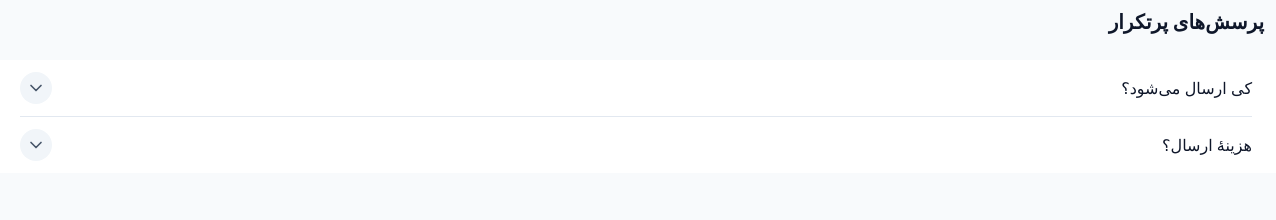
style_1 › faq: every question, its answer shown or a press away
Expected: the heading "پرسش‌های پرتکرار" is shown, [1109, 4, 1275, 40]
What coordinates should you click on to do the following:
click the button "کی ارسال می‌شود؟"
I would click on:
 (1187, 88)
Its box is [20, 60, 1252, 116].
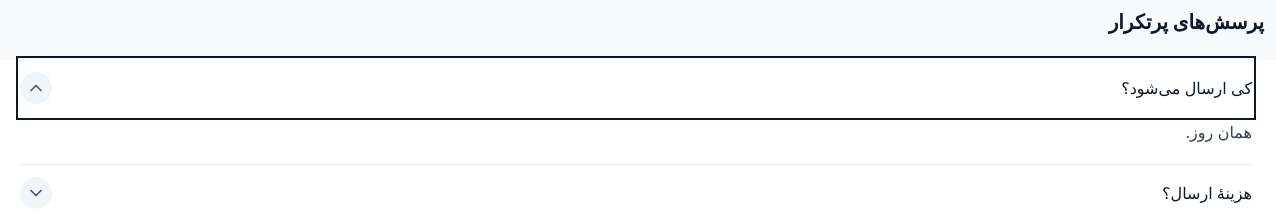
Expected: the text "همان روز." is shown, [1185, 122, 1252, 142]
